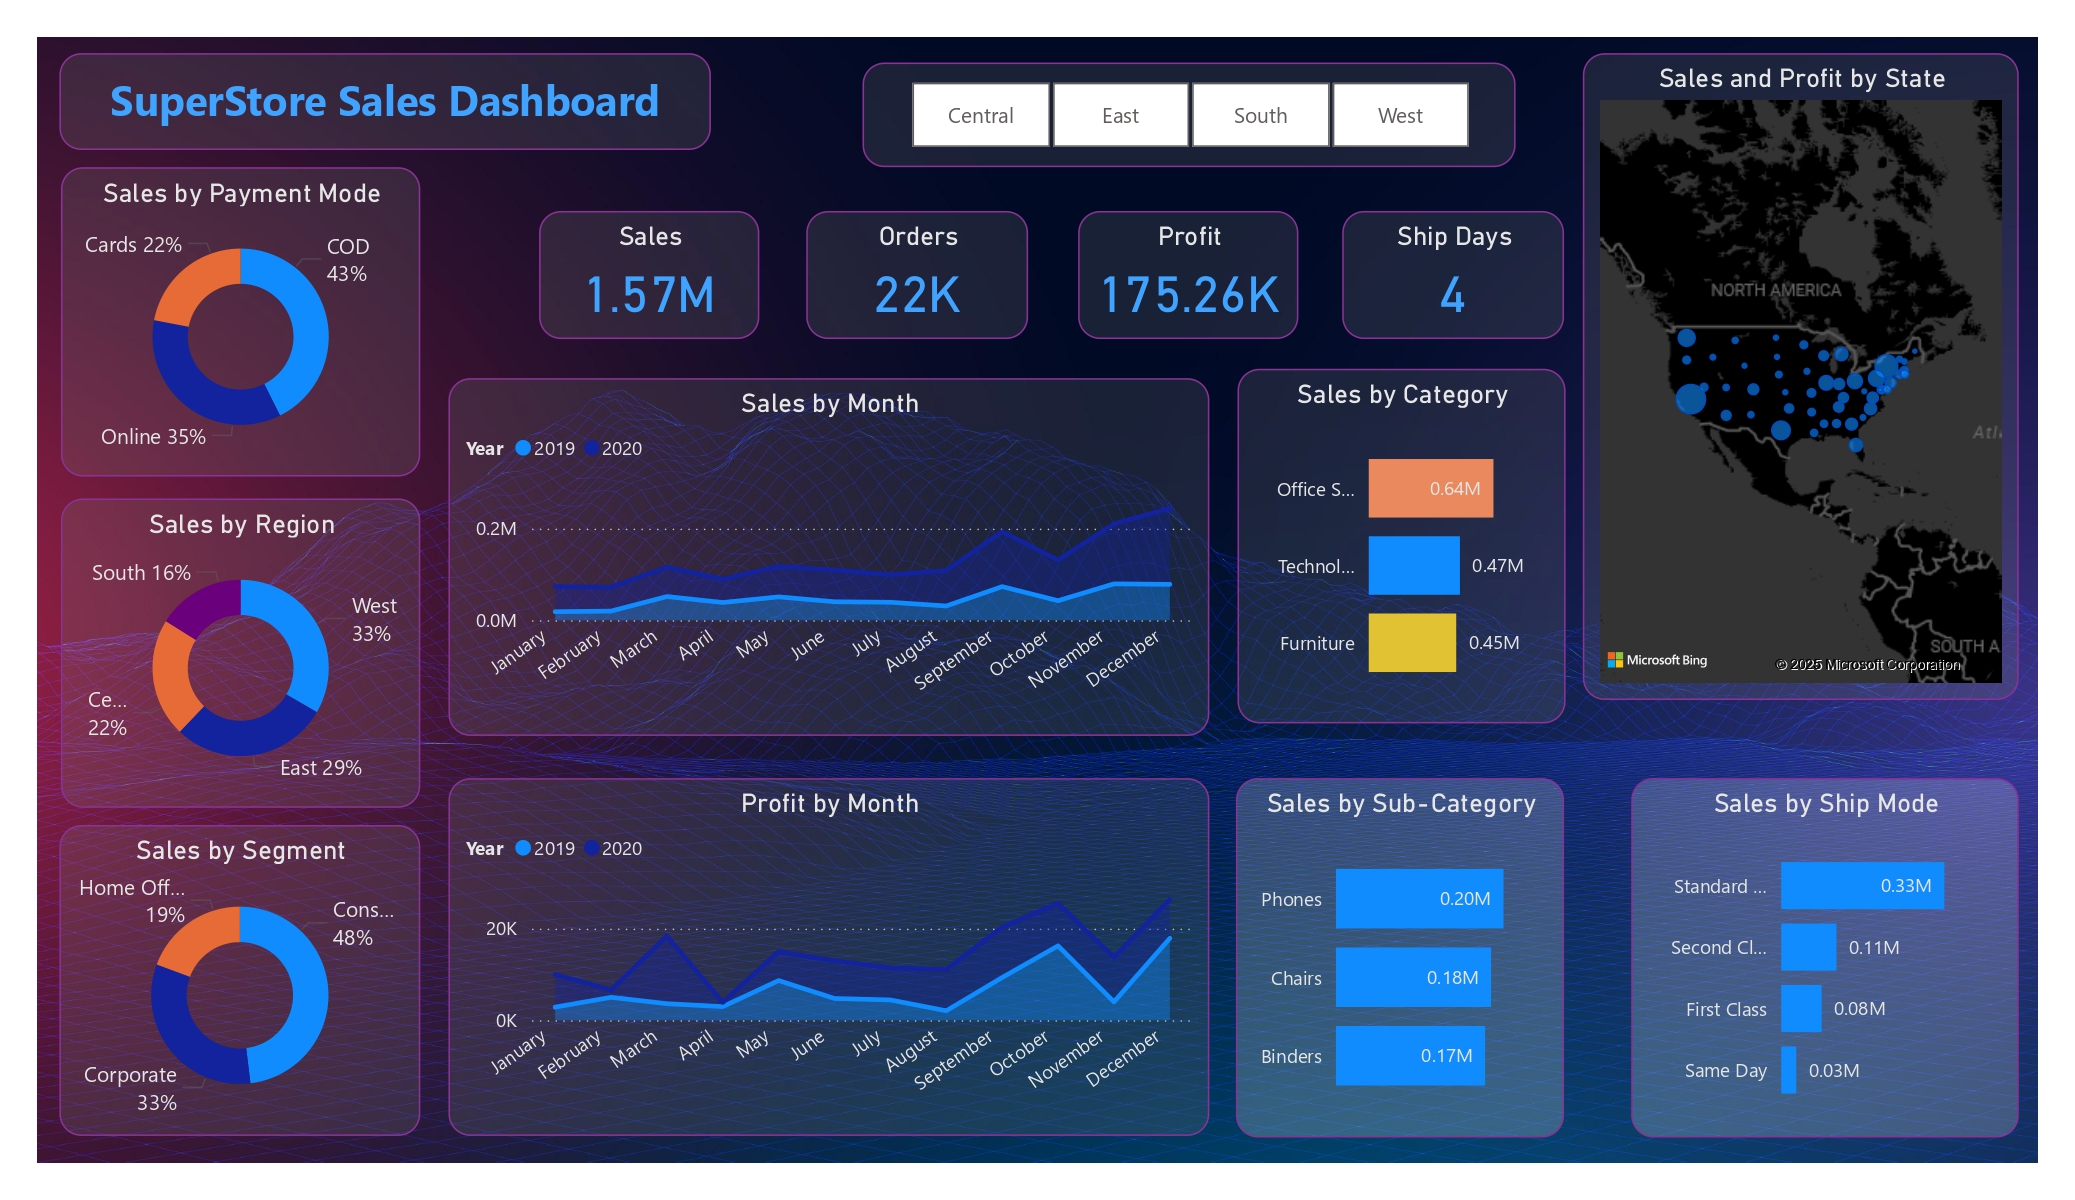

The page's visual inventory and layout, read from the dashboard file:
{"tool":"powerbi","page":{"name":"Dashboard","canvas":[1280,720],"ordinal":0},"visuals":[{"type":"clusteredBarChart","title":"Sales by Category","fields":{"Category":["SuperStore_Sales_Dataset.Category"],"Y":["Sum(SuperStore_Sales_Dataset.Sales)"]},"box":[767.5,212,210.5,226.6],"z":0},{"type":"clusteredBarChart","title":"Sales by Sub-Category","fields":{"Category":["SuperStore_Sales_Dataset.Sub-Category"],"Y":["Sum(SuperStore_Sales_Dataset.Sales)"]},"box":[766.6,474.1,210.3,230.2],"z":1000},{"type":"clusteredBarChart","title":"Sales by Ship Mode","fields":{"Category":["SuperStore_Sales_Dataset.Ship Mode"],"Y":["Sum(SuperStore_Sales_Dataset.Sales)"]},"box":[1020.5,474.1,247.6,230.2],"z":2000},{"type":"stackedAreaChart","title":"Sales by Month","fields":{"Y":["Sum(SuperStore_Sales_Dataset.Sales)"],"Series":["SuperStore_Sales_Dataset.Order Date.Variation.Date Hierarchy.Year"],"Category":["SuperStore_Sales_Dataset.Order Date.Variation.Date Hierarchy.Month","SuperStore_Sales_Dataset.Order Date.Variation.Date Hierarchy.Day"]},"box":[262.6,217.8,487.8,229],"z":3000},{"type":"stackedAreaChart","title":"Profit by Month","fields":{"Series":["SuperStore_Sales_Dataset.Order Date.Variation.Date Hierarchy.Year"],"Category":["SuperStore_Sales_Dataset.Order Date.Variation.Date Hierarchy.Month","SuperStore_Sales_Dataset.Order Date.Variation.Date Hierarchy.Day"],"Y":["Sum(SuperStore_Sales_Dataset.Profit)"]},"box":[262.6,474.1,487.8,229],"z":4000},{"type":"map","title":"Sales and Profit by State","fields":{"Category":["SuperStore_Sales_Dataset.State"],"Size":["Sum(SuperStore_Sales_Dataset.Sales)"]},"box":[989.3,10,278.8,414.4],"z":5000},{"type":"donutChart","title":"Sales by Segment","fields":{"Category":["SuperStore_Sales_Dataset.Segment"],"Y":["Sum(SuperStore_Sales_Dataset.Sales)"]},"box":[13.7,504,231.5,199.1],"z":6000},{"type":"donutChart","title":"Sales by Payment Mode","fields":{"Category":["SuperStore_Sales_Dataset.Payment Mode"],"Y":["Sum(SuperStore_Sales_Dataset.Sales)"]},"box":[14.9,83.4,230.2,197.9],"z":7000},{"type":"slicer","fields":{"Values":["SuperStore_Sales_Dataset.Region"]},"box":[527.8,16.1,418.1,67.2],"z":8000},{"type":"textbox","box":[13.7,10,416.9,62.2],"z":9000},{"type":"card","title":"Sales","fields":{"Values":["Sum(SuperStore_Sales_Dataset.Sales)"]},"box":[320.7,111.5,141.8,81.9],"z":10000},{"type":"card","title":"Orders","fields":{"Values":["Sum(SuperStore_Sales_Dataset.Quantity)"]},"box":[491.7,111.5,141.8,81.9],"z":11000},{"type":"card","title":"Profit","fields":{"Values":["Sum(SuperStore_Sales_Dataset.Profit)"]},"box":[665.7,111.5,141.8,81.9],"z":12000},{"type":"card","title":"Ship Days","fields":{"Values":["Avg(SuperStore_Sales_Dataset.AvgDelivery)"]},"box":[835.3,111.5,141.8,81.9],"z":13000},{"type":"donutChart","title":"Sales by Region","fields":{"Category":["SuperStore_Sales_Dataset.Region"],"Y":["Sum(SuperStore_Sales_Dataset.Sales)"]},"box":[14.9,294.9,230.2,197.9],"z":14000}]}

Visuals, with their boxes in screenshot pixels (x1, y1, x2, y2):
"Sales by Category" clusteredBarChart: 1237, 369, 1566, 723
"Sales by Sub-Category" clusteredBarChart: 1235, 778, 1564, 1138
"Sales by Ship Mode" clusteredBarChart: 1632, 778, 2019, 1138
"Sales by Month" stackedAreaChart: 448, 378, 1210, 736
"Profit by Month" stackedAreaChart: 448, 778, 1210, 1136
"Sales and Profit by State" map: 1583, 53, 2019, 701
"Sales by Segment" donutChart: 59, 825, 421, 1136
"Sales by Payment Mode" donutChart: 61, 168, 420, 477
slicer - SuperStore_Sales_Dataset.Region: 862, 63, 1515, 168
textbox: 59, 53, 710, 150
"Sales" card: 539, 212, 760, 340
"Orders" card: 806, 212, 1027, 340
"Profit" card: 1078, 212, 1299, 340
"Ship Days" card: 1343, 212, 1564, 340
"Sales by Region" donutChart: 61, 498, 420, 807
